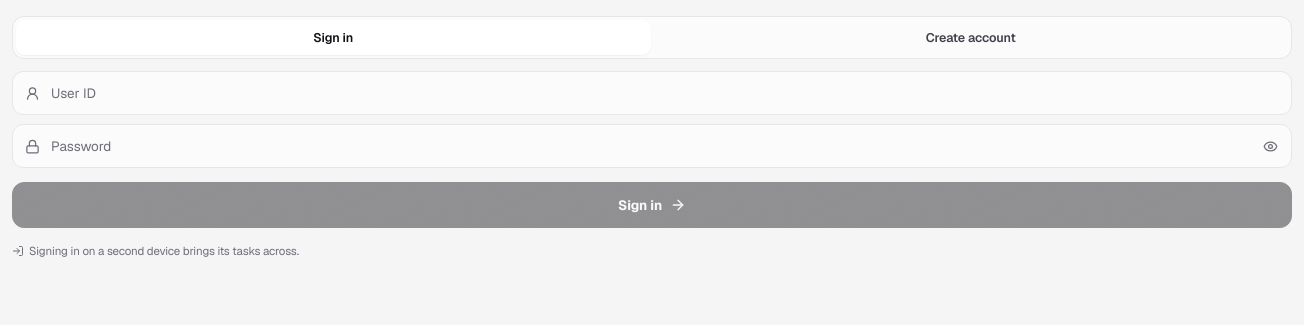
Test case: AuthForm › shows an inline error as an alert, not a silent no-op
The image size is (1304, 325).
Type "lakshit" into the field labelled "User ID" at (652, 93), box [12,71,1292,115]
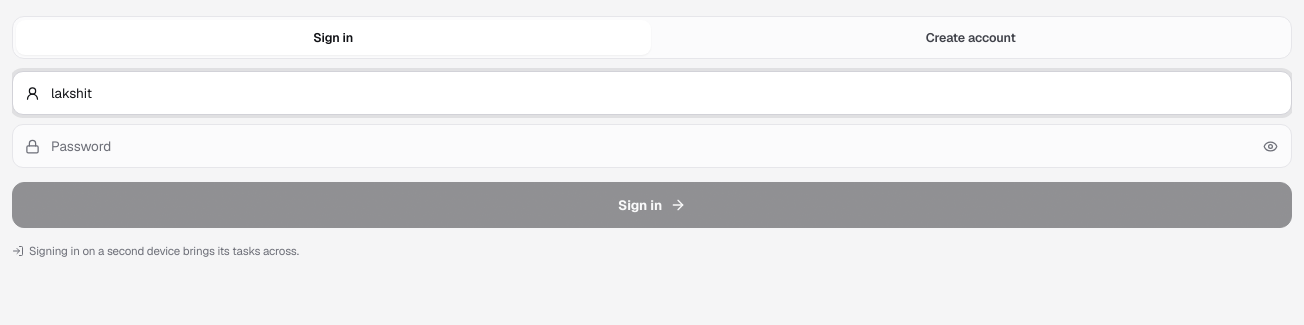
Type "nope" into the password field labelled "Password" at (652, 146), box [12,124,1292,168]
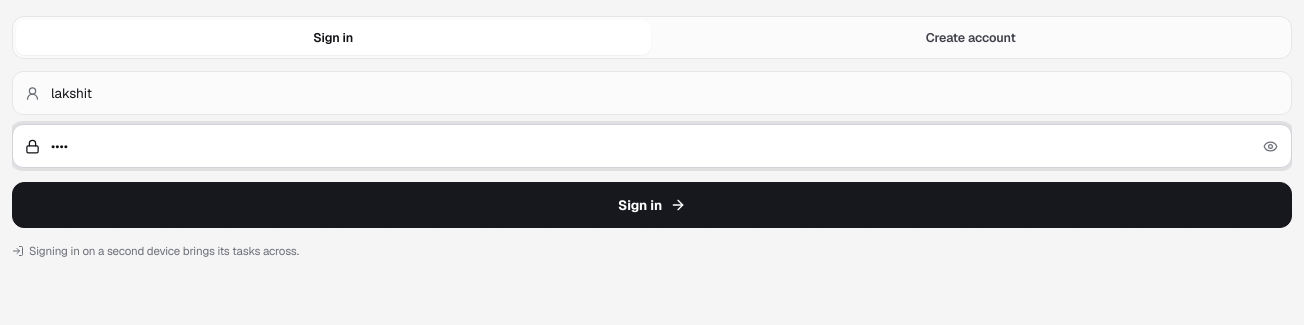
Click the button "Sign in" at (652, 205), box [12,182,1292,228]
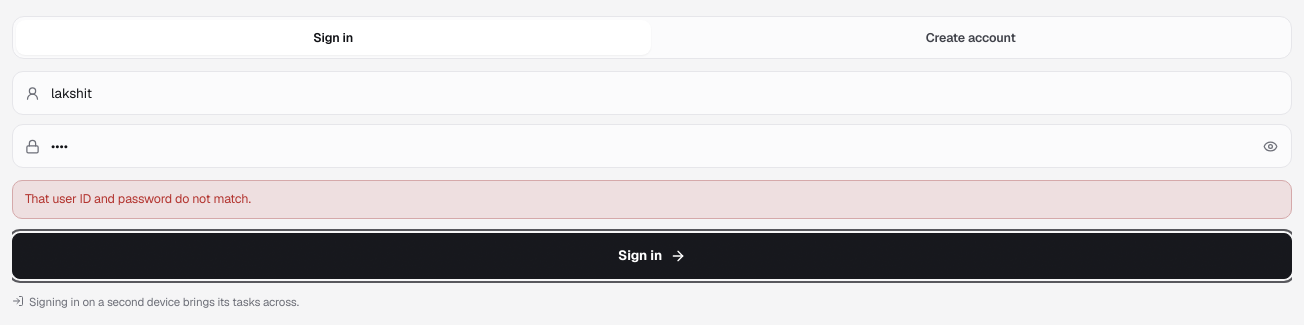
Result: the message shows "do not match" at [25,190,251,207]
